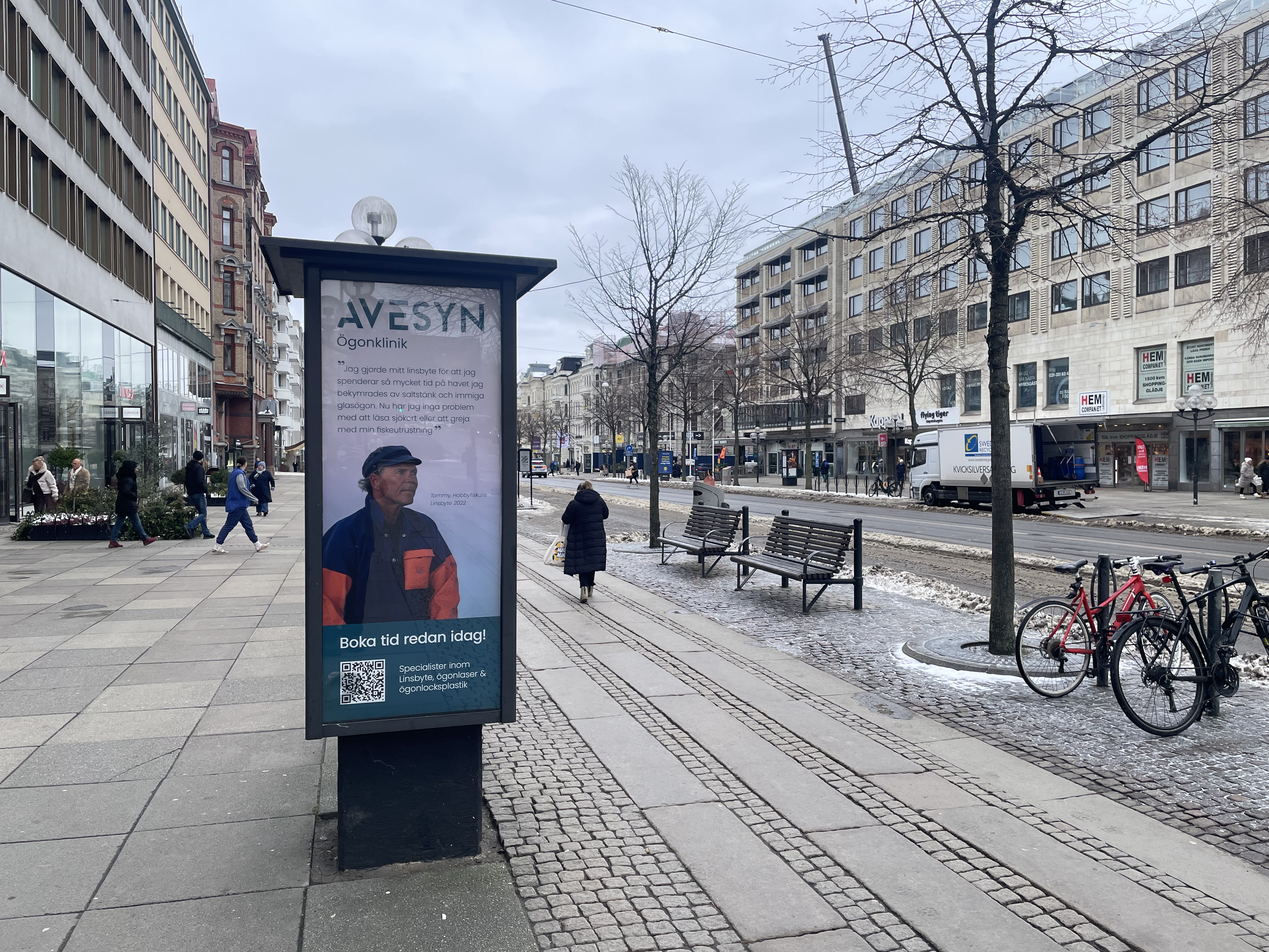advertisement: (320, 278, 503, 725)
